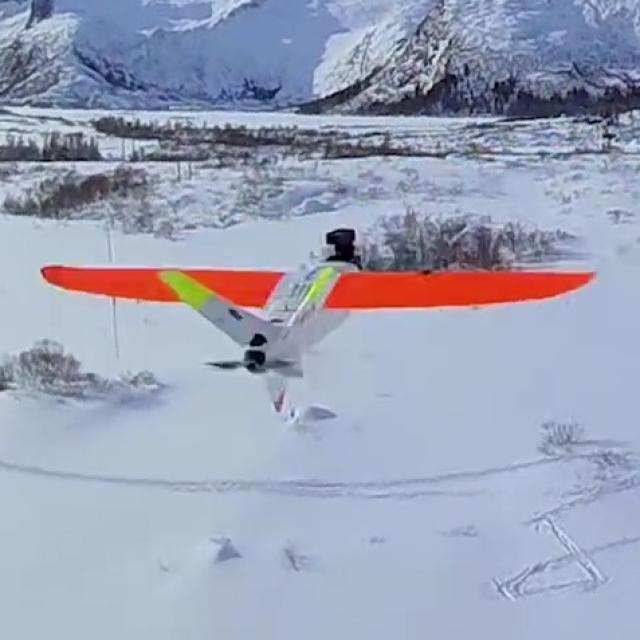iha: (40, 225, 600, 415)
